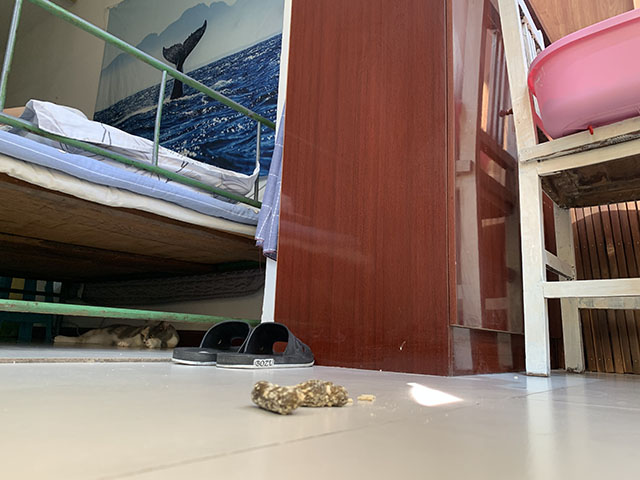bed: (1, 1, 269, 327)
cabinet: (279, 36, 527, 376)
feces: (250, 379, 351, 417)
slippers: (170, 319, 315, 370)
stool: (496, 1, 640, 378)
